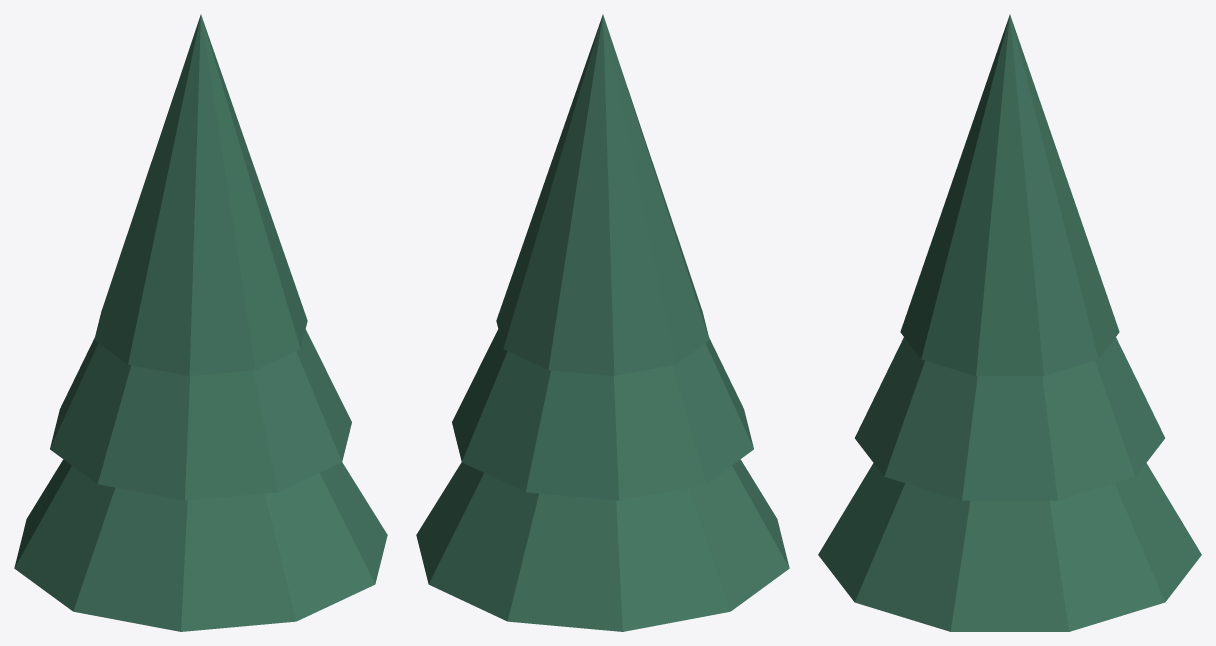
File: nature_pine_wide.glb
3 views of the same model, side by side, from view 1: azimuth 30°, elevation 25°; view 2: azimuth 150°, elevation 25°; view 3: azimuth 270°, elevation 25° (orthographic).
Parts seen in each view (by area): view 1: nature_pine_wide; view 2: nature_pine_wide; view 3: nature_pine_wide.
Part boxes in pixels (box(x1,y1,x2,y2)): nature_pine_wide: box(14, 14, 387, 631); nature_pine_wide: box(416, 14, 789, 631); nature_pine_wide: box(818, 14, 1201, 631).
Size of the model in its own units: 2 by 3.65 by 2.1.
